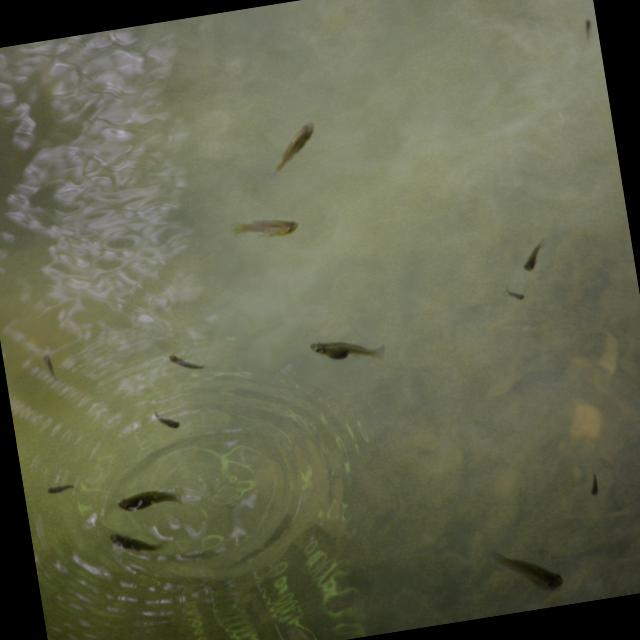Sivrisinek Baligi: (485, 534, 565, 602), (109, 471, 196, 520), (304, 322, 384, 374), (260, 116, 321, 180), (228, 204, 299, 248), (101, 518, 162, 566), (163, 342, 208, 382), (516, 233, 551, 278), (42, 472, 80, 506), (147, 400, 184, 434), (497, 277, 532, 311), (37, 352, 66, 384)
